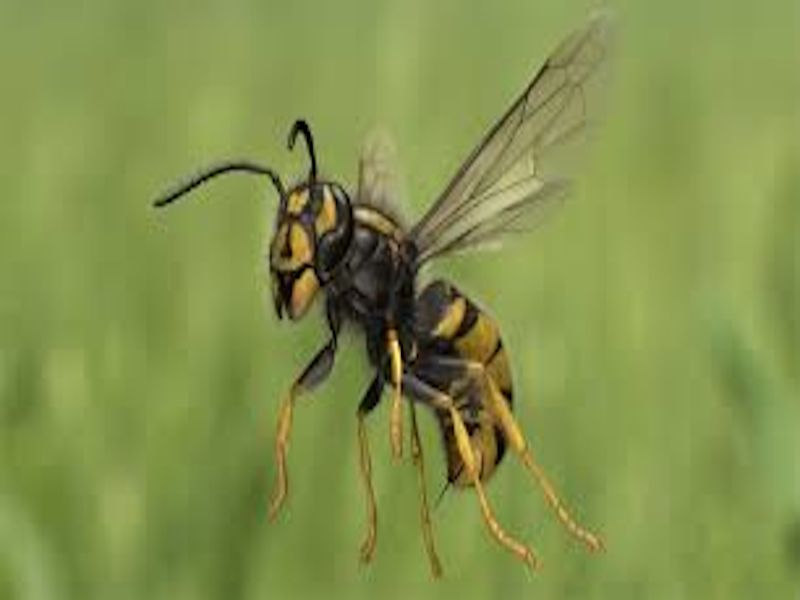chax: (135, 17, 638, 586)
